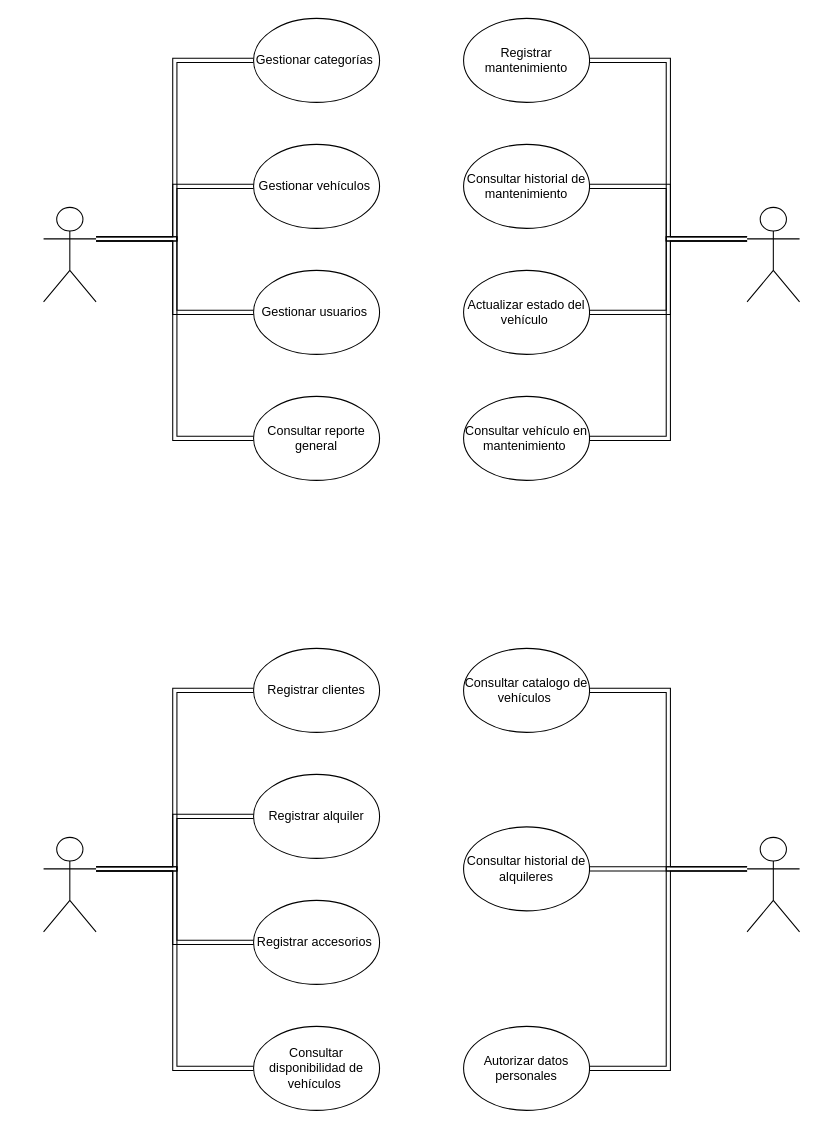
Image size: 826x1129. Some labels were removed from this diagram. Here are the shapes that lost their labels. From the top down, the centre of each, then its label:
At (69,254): "administrador".
At (773,254): "jefe de flota".
At (69,884): "asesor comercial".
At (773,884): "cliente".
